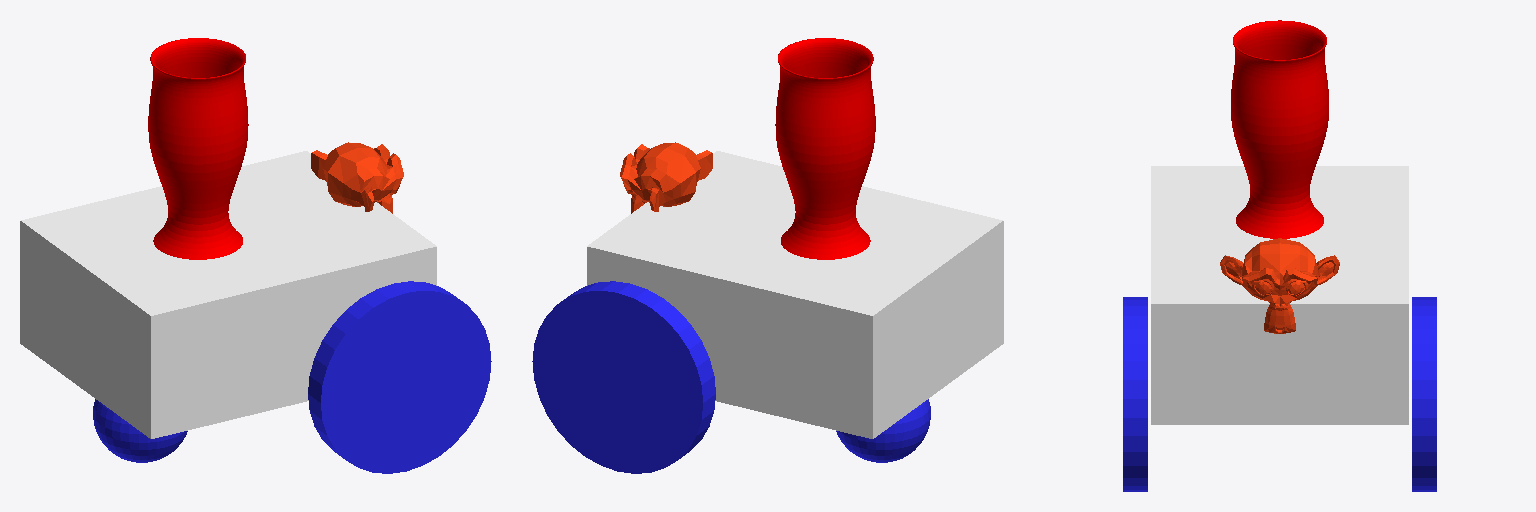
robot.urdf — robot:
<?xml version="1.0" ?>
<!-- =================================================================================== -->
<!-- |    This document was autogenerated by xacro from robot.urdf.xacro               | -->
<!-- |    EDITING THIS FILE BY HAND IS NOT RECOMMENDED                                 | -->
<!-- =================================================================================== -->
<robot name="robot">
  <gazebo>
    <!--plugin
            filename="gz-sim-pose-publisher-system"
            name="gz::sim::systems::PosePublisher">
            <publish_link_pose>true</publish_link_pose>
            <use_pose_vector_msg>true</use_pose_vector_msg>
            <static_publisher>true</static_publisher>
            <static_update_frequency>1</static_update_frequency>
        </plugin-->
    <!--plugin
            filename="gz-sim-odometry-publisher-system"
            name="gz::sim::systems::OdometryPublisher">
            <odom_frame>robot/odom</odom_frame>
            <robot_base_frame>robot/base_link</robot_base_frame>
            <odom_publish_frequency>50</odom_publish_frequency>
        </plugin-->
    <plugin filename="gz-sim-joint-state-publisher-system" name="gz::sim::systems::JointStatePublisher">
        </plugin>
    <plugin filename="gz-sim-diff-drive-system" name="gz::sim::systems::DiffDrive">
      <left_joint>left_wheel_joint</left_joint>
      <right_joint>right_wheel_joint</right_joint>
      <child_frame_id>robot/base_link</child_frame_id>
      <wheel_separation>0.291</wheel_separation>
      <wheel_radius>0.033</wheel_radius>
      <odom_publish_frequency>10</odom_publish_frequency>
    </plugin>
  </gazebo>
  <!--xacro:include filename="$(find robot_description)/urdf/lidar.urdf.xacro" /-->
  <!--xacro:include filename="$(find robot_description)/urdf/depth.urdf.xacro" /-->
  <material name="white">
    <color rgba="1 1 1 1"/>
  </material>
  <material name="orange">
    <color rgba="1 0.3 0.1 1"/>
  </material>
  <material name="blue">
    <color rgba="0.2 0.2 1 1"/>
  </material>
  <material name="black">
    <color rgba="0 0 0 1"/>
  </material>
  <material name="red">
    <color rgba="1 0 0 1"/>
  </material>
  <link name="base_link">
    </link>
  <link name="base_footprint">
    </link>
  <joint name="base_footprint_joint" type="fixed">
    <parent link="base_link"/>
    <child link="base_footprint"/>
    <origin rpy="0 0 0" xyz="0 0 -0.138"/>
  </joint>
  <joint name="chassis_joint" type="fixed">
    <parent link="base_link"/>
    <child link="chassis"/>
    <origin xyz="-0.226 0 -0.01"/>
  </joint>
  <link name="chassis">
    <inertial>
      <origin rpy="0 0 0" xyz="0.1675 0 0.069"/>
      <mass value="1.0"/>
      <inertia ixx="0.007439083333333334" ixy="0.0" ixz="0.0" iyy="0.010939083333333335" iyz="0.0" izz="0.015204166666666668"/>
    </inertial>
    <visual>
      <origin xyz="0.11166666666666668 0 0.069"/>
      <geometry>
        <box size="0.335 0.265 0.138"/>
      </geometry>
      <material name="white"/>
    </visual>
    <collision>
      <origin xyz="0.1675 0 0.069"/>
      <geometry>
        <box size="0.335 0.265 0.138"/>
      </geometry>
    </collision>
  </link>
  <gazebo reference="chassis">
    <material>Gazebo/Orange</material>
  </gazebo>
  <joint name="left_wheel_joint" type="continuous">
    <parent link="base_link"/>
    <child link="left_wheel"/>
    <origin rpy="-1.5707963267948966 0 0" xyz="0 0.1485 0"/>
    <axis xyz="0 0 1"/>
  </joint>
  <link name="left_wheel">
    <visual>
      <geometry>
        <cylinder length="0.026" radius="0.1"/>
      </geometry>
      <material name="blue"/>
    </visual>
    <collision>
      <geometry>
        <sphere radius="0.1"/>
      </geometry>
    </collision>
    <inertial>
      <origin rpy="0 0 0" xyz="0 0 0"/>
      <mass value="0.05"/>
      <inertia ixx="0.0001278166666666667" ixy="0.0" ixz="0.0" iyy="0.0001278166666666667" iyz="0.0" izz="0.00025000000000000006"/>
    </inertial>
  </link>
  <joint name="right_wheel_joint" type="continuous">
    <parent link="base_link"/>
    <child link="right_wheel"/>
    <origin rpy="1.5707963267948966 0 0" xyz="0 -0.1485 0"/>
    <axis xyz="0 0 -1"/>
  </joint>
  <link name="right_wheel">
    <visual>
      <geometry>
        <cylinder length="0.026" radius="0.1"/>
      </geometry>
      <material name="blue"/>
    </visual>
    <collision>
      <geometry>
        <sphere radius="0.1"/>
      </geometry>
    </collision>
    <inertial>
      <origin rpy="0 0 0" xyz="0 0 0"/>
      <mass value="0.05"/>
      <inertia ixx="0.0001278166666666667" ixy="0.0" ixz="0.0" iyy="0.0001278166666666667" iyz="0.0" izz="0.00025000000000000006"/>
    </inertial>
  </link>
  <gazebo reference="right_wheel">
    <material>Gazebo/Blue</material>
  </gazebo>
  <joint name="caster_wheel_joint" type="fixed">
    <parent link="chassis"/>
    <child link="caster_wheel"/>
    <origin xyz="0.01 0 -0.04000000000000001"/>
  </joint>
  <link name="caster_wheel">
    <visual>
      <geometry>
        <sphere radius="0.05"/>
      </geometry>
      <material name="blue"/>
    </visual>
    <collision>
      <geometry>
        <sphere radius="0.05"/>
      </geometry>
    </collision>
    <inertial>
      <origin rpy="0 0 0" xyz="0 0 0"/>
      <mass value="0.01"/>
      <inertia ixx="1.0000000000000003e-05" ixy="0.0" ixz="0.0" iyy="1.0000000000000003e-05" iyz="0.0" izz="1.0000000000000003e-05"/>
    </inertial>
  </link>
  <gazebo reference="caster_wheel">
    <material>Gazebo/White</material>
    <mu1 value="0.001"/>
    <mu2 value="0.001"/>
  </gazebo>
  <link name="vasa_link">
    <visual>
      <geometry>
        <mesh filename="vasa.stl"/>
      </geometry>
      <material name="red"/>
    </visual>
    <!-- Остальные параметры звена, такие как инерция, масса и т.д., также могут быть указаны здесь -->
  </link>
  <joint name="base_to_vasa_joint" type="fixed">
    <parent link="base_link"/>
    <child link="vasa_link"/>
    <origin xyz="-0.15 0 0.11900000000000001"/>
    <!-- Другие параметры сочленения -->
  </joint>
  <link name="monkey_link">
    <visual>
      <geometry>
        <mesh filename="monkey.stl"/>
      </geometry>
      <material name="orange"/>
    </visual>
    <!-- Остальные параметры звена, такие как инерция, масса и т.д., также могут быть указаны здесь -->
  </link>
  <joint name="base_to_monkey_joint" type="fixed">
    <parent link="base_link"/>
    <child link="monkey_link"/>
    <origin xyz="0.04 0 0.14400000000000002"/>
    <!-- Другие параметры сочленения -->
  </joint>
</robot>

--- Facts derived from the render (not from the file) ---
Views: 3 orthographic renders of the robot side by side, from view 1: azimuth 30°, elevation 25°; view 2: azimuth 150°, elevation 25°; view 3: azimuth 270°, elevation 25°.
Robot: robot — 8 links, 7 joints (2 continuous, 5 fixed); root link base_link; default pose: every joint at zero.
Visible links, largest first — view 1: chassis, right_wheel, vasa_link, monkey_link, caster_wheel; view 2: chassis, left_wheel, vasa_link, monkey_link, caster_wheel; view 3: chassis, vasa_link, monkey_link, left_wheel, right_wheel.
Link boxes in pixels (box(x1,y1,x2,y2)): chassis: box(20, 151, 436, 438); right_wheel: box(308, 281, 491, 473); vasa_link: box(148, 38, 248, 259); monkey_link: box(311, 142, 403, 213); caster_wheel: box(93, 399, 187, 462); chassis: box(587, 151, 1003, 438); left_wheel: box(532, 281, 715, 473); vasa_link: box(775, 38, 875, 259); monkey_link: box(620, 142, 712, 213); caster_wheel: box(836, 399, 930, 462); chassis: box(1151, 166, 1408, 424); vasa_link: box(1231, 20, 1328, 238); monkey_link: box(1220, 238, 1339, 333); left_wheel: box(1412, 297, 1436, 491); right_wheel: box(1123, 297, 1147, 491).
Size in the robot's own frame: 0.3818 by 0.323 by 0.4325 metres.
2 mesh visuals loaded from 2 distinct referenced files (2 binary STL).